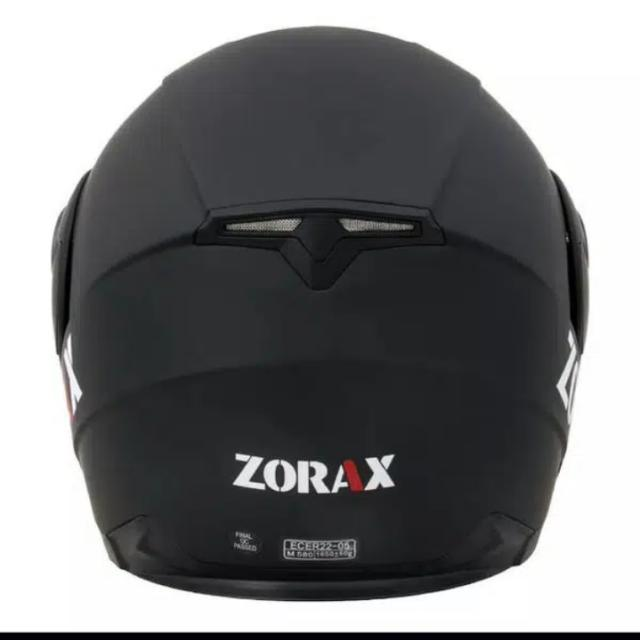Helmet: (77, 12, 618, 640)
